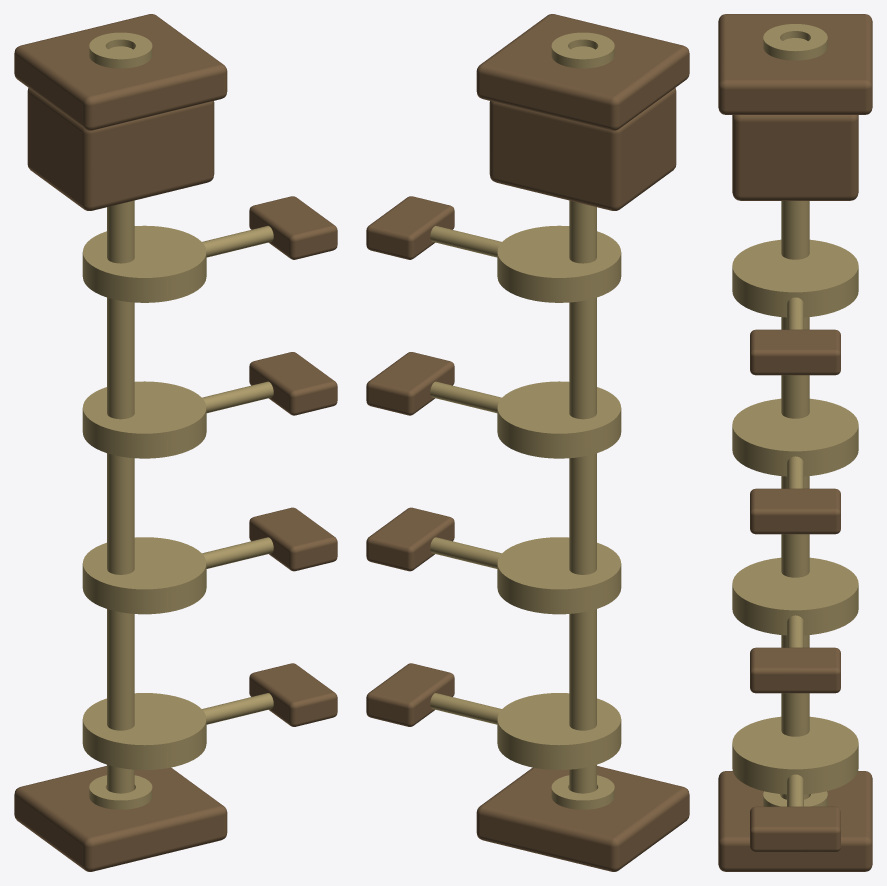
File: water-clock-garden-and-hydraulic-puzzles-shutter-camsh-28279577__31942.glb
3 views of the same model, side by side, from view 1: azimuth 30°, elevation 25°; view 2: azimuth 150°, elevation 25°; view 3: azimuth 270°, elevation 25° (orthographic). The views are drawn at different scales.
Parts seen in each view (by area): view 1: shutter-camshaft; view 2: shutter-camshaft; view 3: shutter-camshaft.
Boxes of the visible parts, box(x1,y1,x2,y2) form: shutter-camshaft: box(14, 14, 337, 871); shutter-camshaft: box(366, 14, 689, 871); shutter-camshaft: box(718, 14, 872, 871).
Bounding box in the file's own units: 0.4501 × 1.26 × 0.2199.
